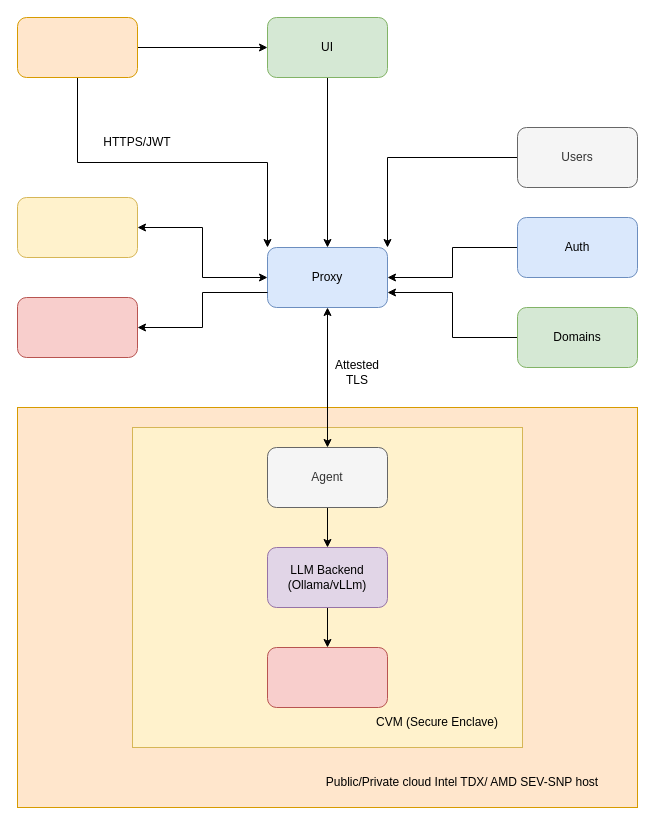
This 655x825 diagram has some shape labels left out. Here are the shapes that lost their labels. From the top down, the box of each, then its label:
(16, 16, 138, 78): Client
(16, 196, 138, 258): Guardrails
(16, 296, 138, 358): Audit logs
(266, 646, 388, 708): AI model
